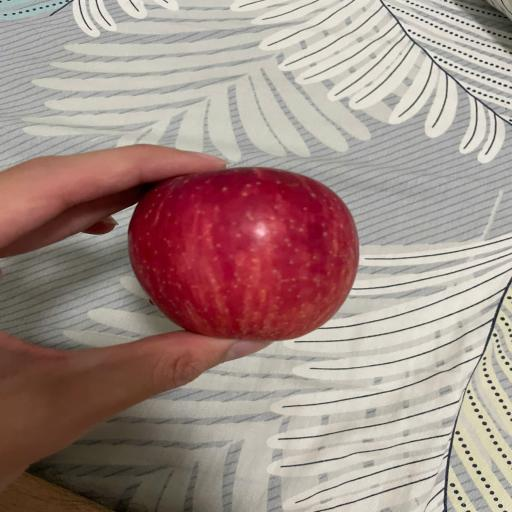apple: (129, 167, 359, 341)
